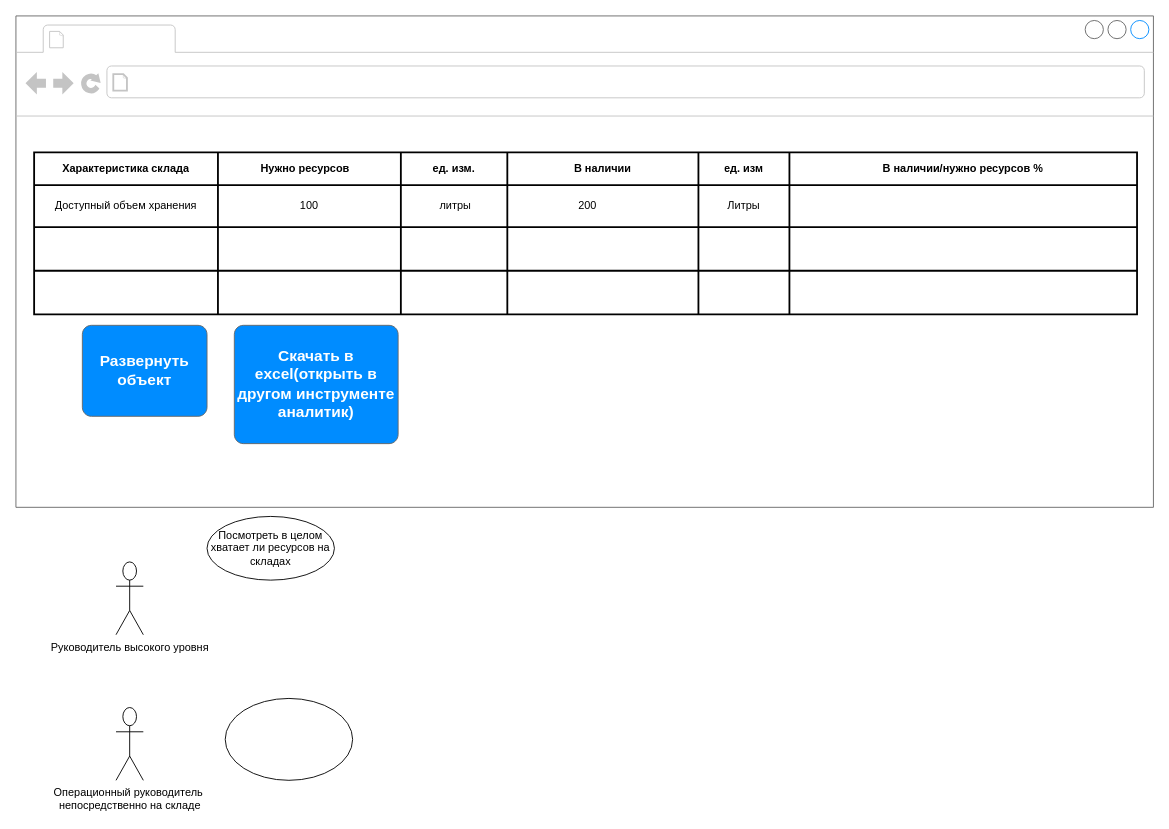
Some shapes in this 1169 by 829 pixel diagram are drawn without their labels. The centre of each missing label's shape, as x and y in pixels:
"Page 1" belongs at (120,38).
"Посмотреть хватает ли ресурсов в его зоне ответсвенности" belongs at (288,739).
